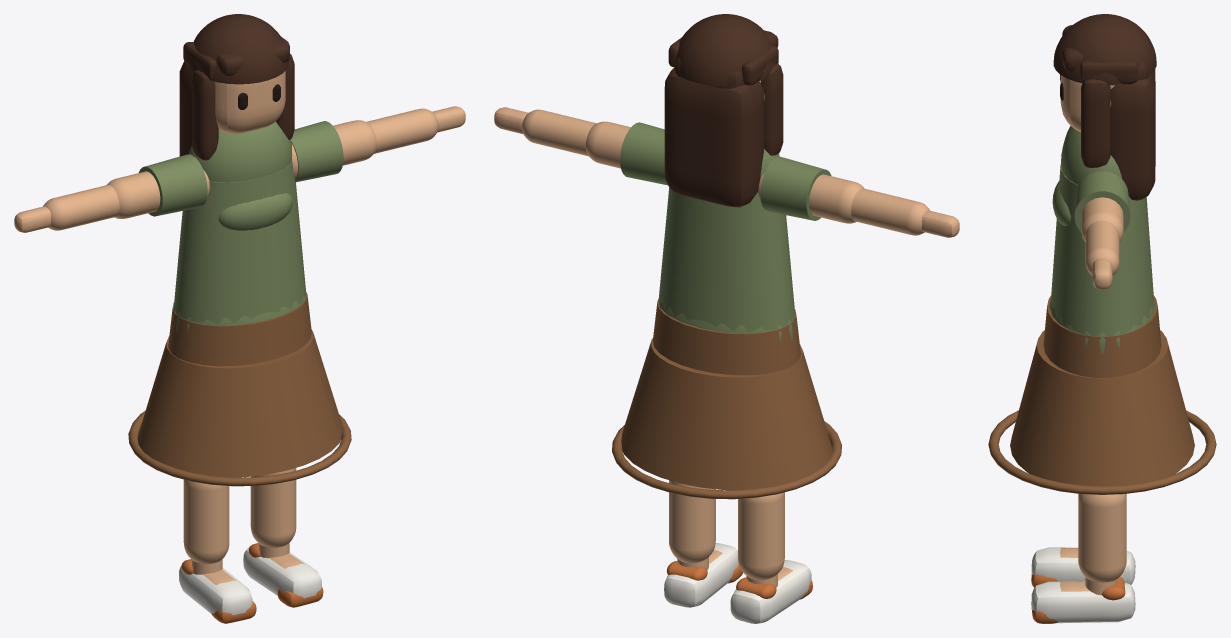
Rendered from lucia.glb.
The picture shows the model from 3 angles, left to right: view 1: azimuth 30°, elevation 25°; view 2: azimuth 150°, elevation 25°; view 3: azimuth 270°, elevation 25°; orthographic projection. The views are drawn at different scales.
Visible parts, largest first — view 1: lucia_skirt, lucia_shirt_body, lucia_bottom_waist, lucia_hair_cap, lucia_top_shoulders, lucia_calf_l, lucia_head, lucia_calf_r, lucia_sleeve_l, lucia_skirt_hem, lucia_sleeve_r, lucia_forearm_l (+13 smaller); view 2: lucia_skirt, lucia_shirt_body, lucia_hair_long, lucia_bottom_waist, lucia_hair_cap, lucia_calf_l, lucia_calf_r, lucia_sleeve_l, lucia_skirt_hem, lucia_forearm_l, lucia_shoe_l, lucia_sleeve_r (+9 smaller); view 3: lucia_skirt, lucia_shirt_body, lucia_bottom_waist, lucia_hair_long, lucia_hair_cap, lucia_calf_r, lucia_skirt_hem, lucia_shoe_r, lucia_hair_lock_r, lucia_sleeve_r, lucia_shoe_l, lucia_forearm_r (+9 smaller).
Boxes of the visible parts, x1,y1,x2,y2 form: lucia_skirt: (137, 330, 342, 477); lucia_shirt_body: (173, 161, 306, 324); lucia_bottom_waist: (168, 293, 311, 366); lucia_hair_cap: (189, 14, 288, 84); lucia_top_shoulders: (189, 121, 291, 182); lucia_calf_l: (183, 479, 229, 563); lucia_head: (215, 71, 285, 134); lucia_calf_r: (250, 468, 296, 547); lucia_sleeve_l: (138, 154, 207, 216); lucia_skirt_hem: (128, 410, 351, 486); lucia_sleeve_r: (290, 121, 343, 182); lucia_forearm_l: (43, 185, 119, 230); lucia_skirt: (621, 338, 832, 490); lucia_shirt_body: (658, 187, 795, 332); lucia_hair_long: (664, 68, 763, 207); lucia_bottom_waist: (653, 300, 800, 375); lucia_hair_cap: (674, 14, 774, 86); lucia_calf_l: (738, 492, 784, 580); lucia_calf_r: (669, 480, 715, 563); lucia_sleeve_l: (760, 156, 831, 220); lucia_skirt_hem: (612, 421, 841, 499); lucia_forearm_l: (851, 188, 929, 235); lucia_shoe_l: (730, 560, 811, 623); lucia_sleeve_r: (620, 122, 667, 185); lucia_skirt: (1010, 330, 1194, 486); lucia_shirt_body: (1051, 164, 1153, 336); lucia_bottom_waist: (1043, 295, 1161, 377); lucia_hair_long: (1110, 69, 1155, 200); lucia_hair_cap: (1053, 14, 1156, 85); lucia_calf_r: (1078, 494, 1126, 582); lucia_skirt_hem: (988, 410, 1216, 494); lucia_shoe_r: (1031, 581, 1135, 623); lucia_hair_lock_r: (1081, 79, 1110, 167); lucia_sleeve_r: (1074, 171, 1130, 232); lucia_shoe_l: (1031, 547, 1135, 584); lucia_forearm_r: (1085, 220, 1119, 275).
Bounding box in the file's own units: 1.45 × 1.77 × 0.6283.
